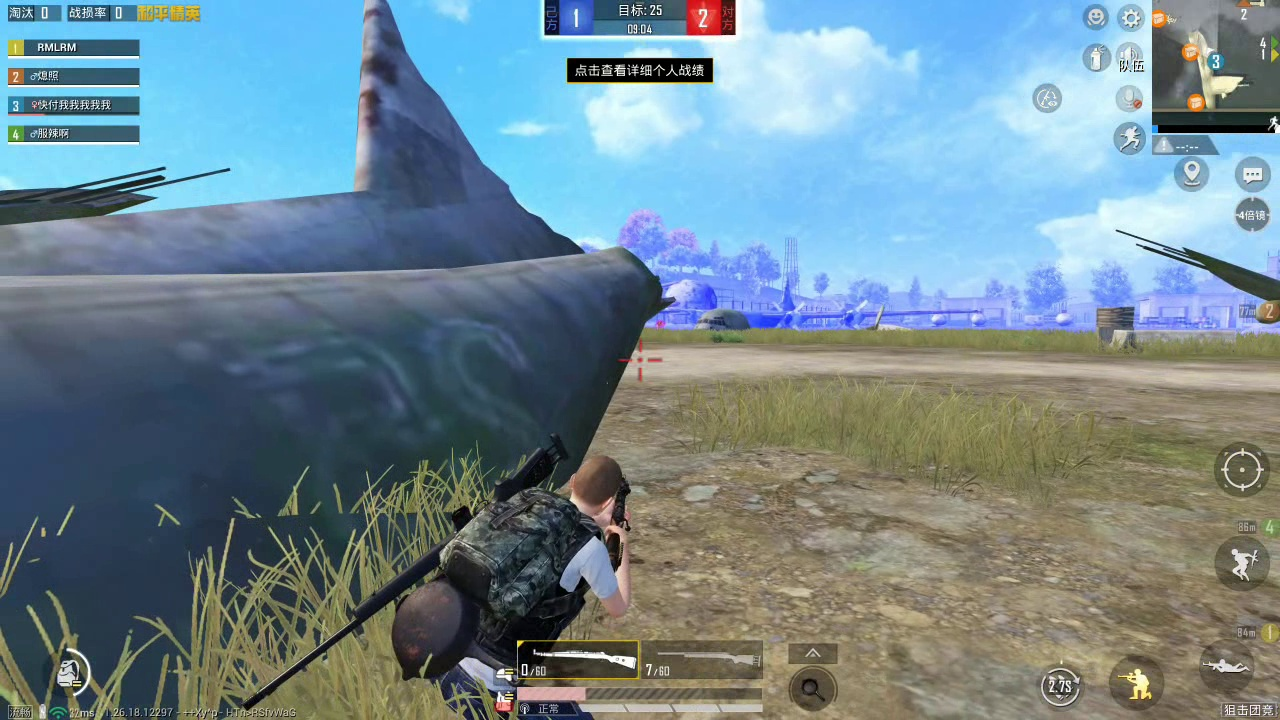enemy: (654, 319, 666, 331)
